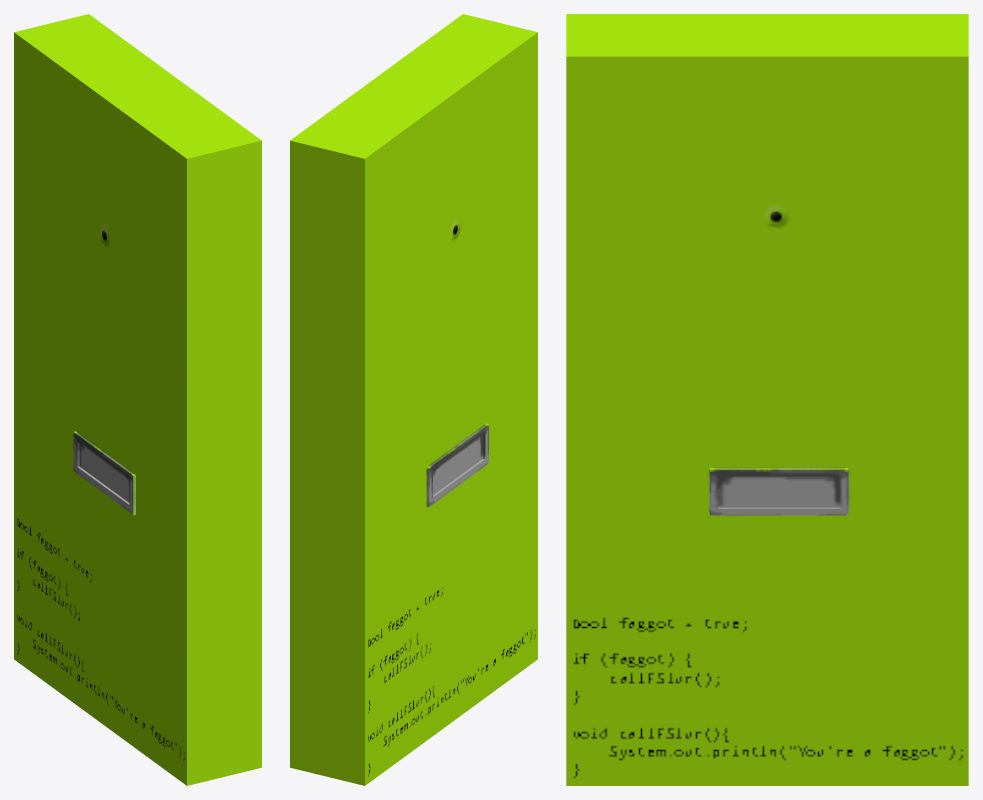
The model's file is 1988frontdoor.fbx.
The picture shows the model from 3 angles, left to right: view 1: azimuth 30°, elevation 25°; view 2: azimuth 150°, elevation 25°; view 3: azimuth 270°, elevation 25°; orthographic projection. The views are drawn at different scales.
Visible parts, largest first — view 1: door; view 2: door; view 3: door.
Boxes of the visible parts, x1=… form: door: x1=14, y1=14, x2=261, y2=785; door: x1=290, y1=14, x2=537, y2=785; door: x1=566, y1=14, x2=968, y2=785.
Bounding box in the file's own units: 53.56 × 400 × 200.
